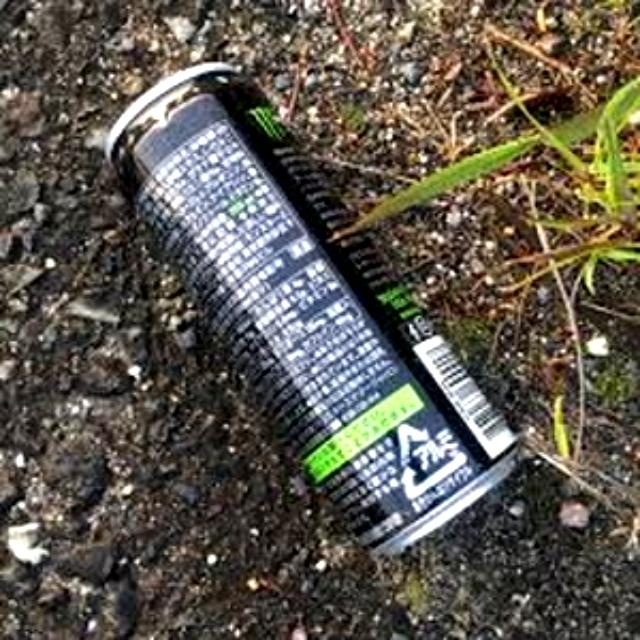Metal: (94, 44, 522, 576)
